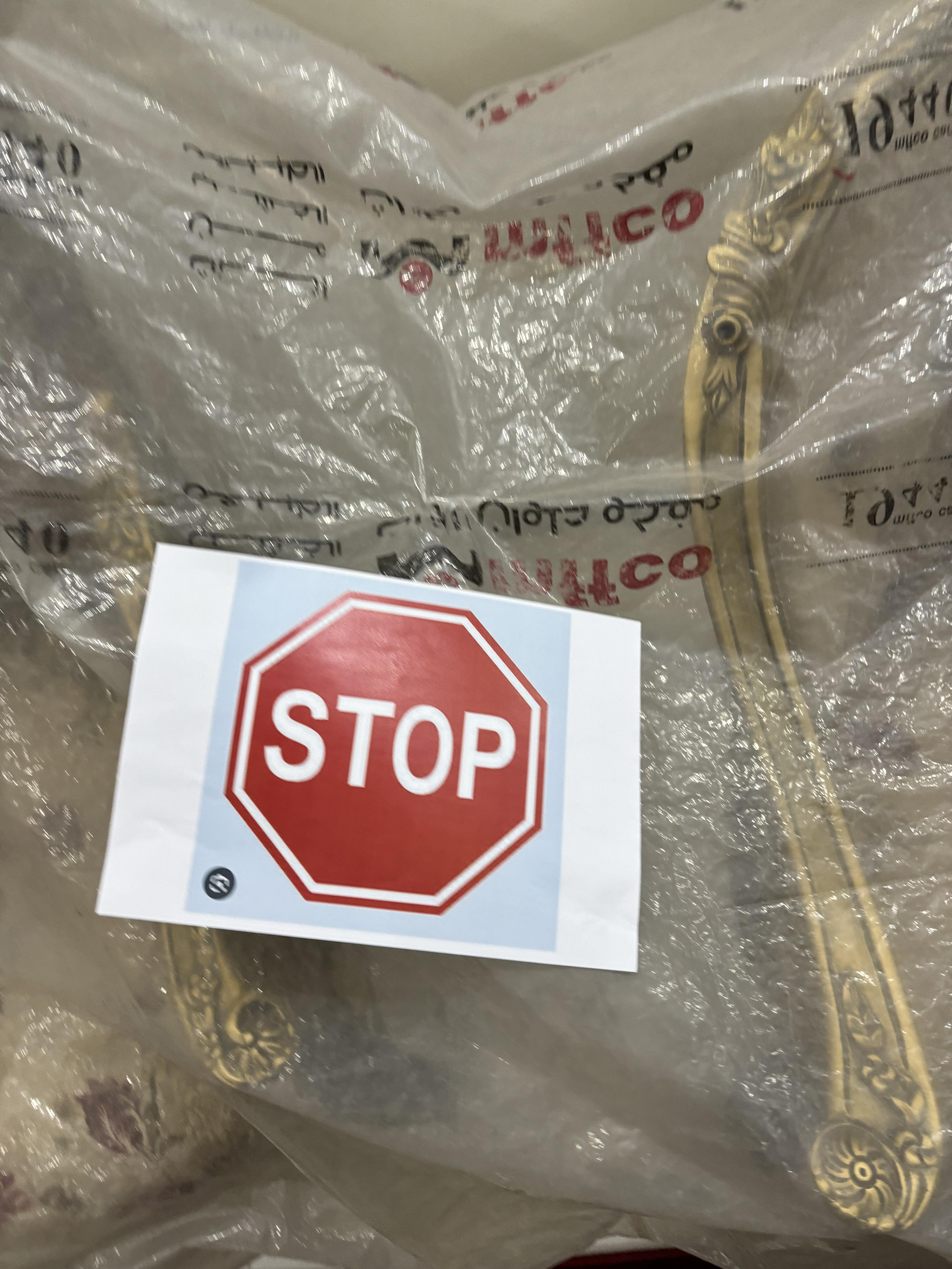Stop: (218, 594, 556, 925)
